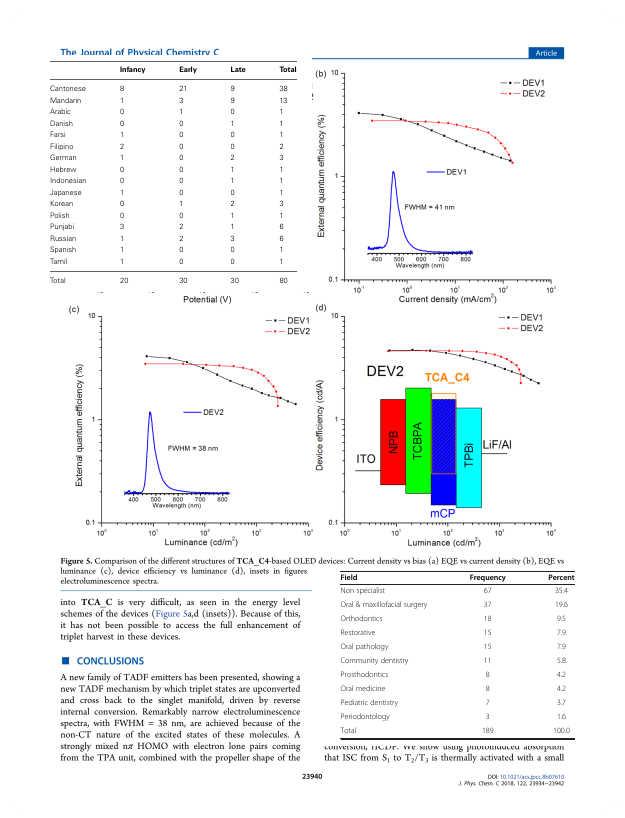borderless: (48, 60, 298, 286), (339, 570, 574, 738)
cell: (340, 601, 428, 611), (340, 657, 409, 667), (340, 699, 399, 709), (340, 713, 391, 723), (340, 643, 389, 653), (340, 671, 389, 681), (340, 587, 386, 597), (340, 685, 386, 695), (340, 615, 383, 625), (340, 629, 376, 639), (469, 574, 507, 583), (49, 177, 87, 186), (49, 85, 86, 94), (49, 97, 82, 106), (49, 189, 82, 198), (547, 574, 575, 583), (118, 66, 146, 75), (49, 154, 77, 163), (49, 166, 77, 175), (49, 235, 77, 244), (49, 246, 77, 255), (49, 223, 75, 232), (49, 143, 74, 152), (49, 200, 74, 209), (49, 120, 73, 129), (49, 108, 71, 117), (552, 727, 571, 737), (49, 212, 70, 221), (178, 66, 197, 75), (278, 66, 297, 75), (49, 258, 68, 267), (340, 727, 357, 737), (340, 574, 358, 583), (229, 66, 246, 75), (49, 131, 66, 140), (49, 277, 66, 286), (554, 587, 569, 597), (554, 601, 569, 611), (481, 727, 494, 737), (556, 615, 567, 625), (556, 629, 567, 639), (556, 643, 567, 653), (556, 657, 567, 667), (556, 671, 567, 681), (556, 685, 567, 695), (556, 699, 567, 709), (556, 713, 567, 723), (118, 277, 129, 286), (483, 587, 492, 597), (483, 601, 492, 611), (483, 615, 492, 625), (483, 629, 492, 639), (483, 643, 492, 653), (483, 657, 492, 667), (178, 85, 188, 94), (278, 85, 288, 94), (278, 97, 288, 106), (178, 277, 188, 286), (229, 277, 239, 286), (278, 277, 288, 286), (118, 85, 125, 94), (118, 97, 125, 106), (118, 108, 125, 117), (118, 120, 125, 129), (118, 131, 125, 140), (118, 143, 125, 152), (118, 154, 125, 163), (118, 166, 125, 175), (118, 177, 125, 186), (118, 189, 125, 198), (118, 200, 125, 209), (118, 212, 125, 221), (118, 223, 125, 232), (118, 235, 125, 244), (118, 246, 125, 255), (118, 258, 125, 267), (485, 671, 491, 681), (485, 685, 491, 695), (485, 699, 491, 709), (485, 713, 491, 723), (229, 85, 235, 94), (178, 97, 184, 106), (229, 97, 235, 106), (178, 108, 184, 117), (229, 108, 235, 117), (278, 108, 284, 117), (178, 120, 184, 129), (229, 120, 235, 129), (278, 120, 284, 129), (178, 131, 184, 140), (229, 131, 235, 140), (278, 131, 284, 140), (178, 143, 184, 152), (229, 143, 235, 152), (278, 143, 284, 152), (178, 154, 184, 163), (229, 154, 235, 163), (278, 154, 284, 163), (178, 166, 184, 175), (229, 166, 235, 175), (278, 166, 284, 175), (178, 177, 184, 186), (229, 177, 235, 186), (278, 177, 284, 186), (178, 189, 184, 198), (229, 189, 235, 198), (278, 189, 284, 198), (178, 200, 184, 209), (229, 200, 235, 209), (278, 200, 284, 209), (178, 212, 184, 221), (229, 212, 235, 221), (278, 212, 284, 221), (178, 223, 184, 232), (229, 223, 235, 232), (278, 223, 284, 232), (178, 235, 184, 244), (229, 235, 235, 244), (278, 235, 284, 244), (178, 246, 184, 255), (229, 246, 235, 255), (278, 246, 284, 255), (178, 258, 184, 267), (229, 258, 235, 267), (278, 258, 284, 267)
